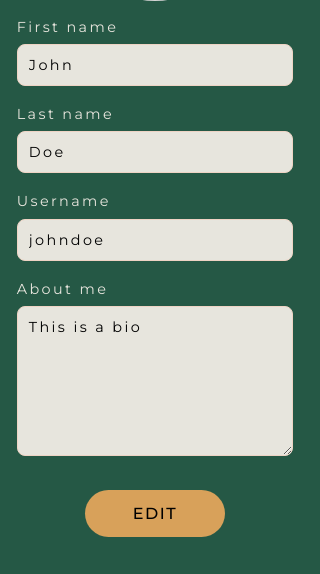
Test: ProfileForm › should allow editing the inputs when the "edit" button is clicked
(page scrolled)
# Click the "edit" button
Click the button "edit" at (155, 514), box left=85, top=490, right=225, bottom=537
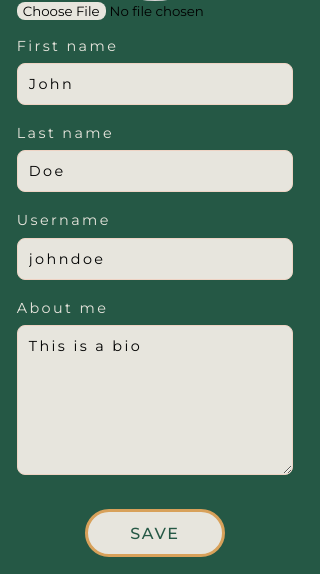
Now the field labelled "First name" is enabled, box left=17, top=63, right=293, bottom=105
Now the field labelled "Last name" is enabled, box left=17, top=150, right=293, bottom=192
